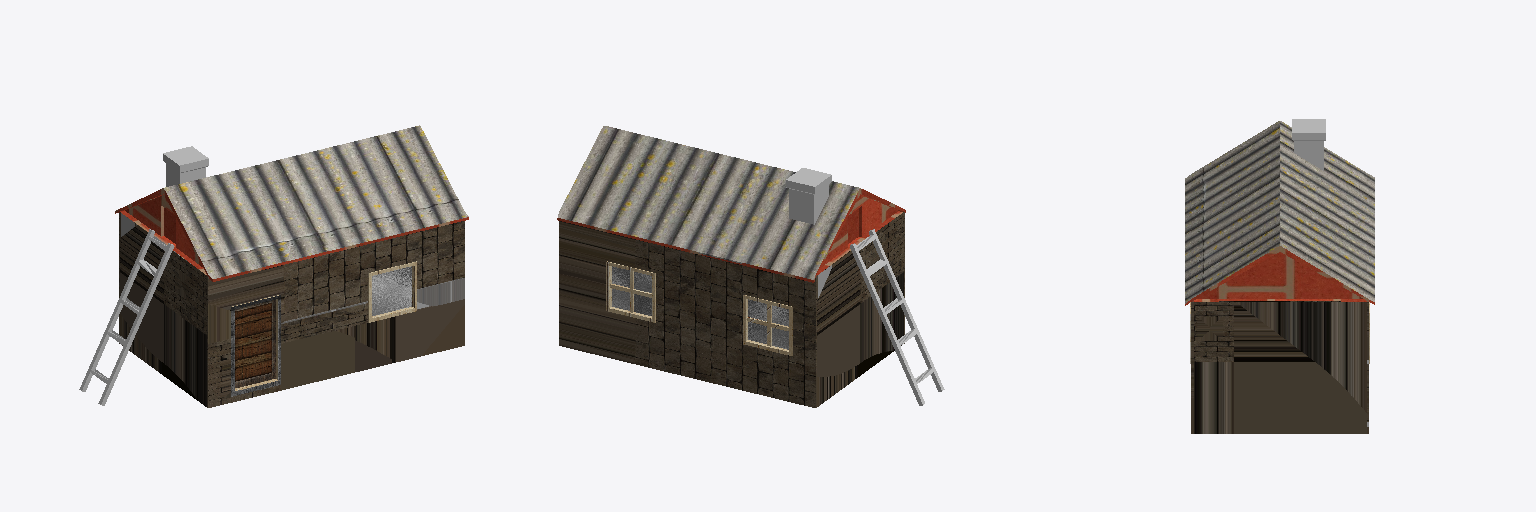
3 renders of one model, left to right at view 1: azimuth 30°, elevation 25°; view 2: azimuth 150°, elevation 25°; view 3: azimuth 270°, elevation 25°, orthographic.
Visible parts, largest first — view 1: Wall, Roof, Dor, Roof2, Ladder, Grass, Chimney, DorFrame, Window; view 2: Wall, Roof, Roof2, Ladder, Grass, Window, Chimney; view 3: Wall, Roof, Roof2, Chimney.
Boxes of the visible parts, <box> form: Wall: <box>119,212,464,407</box>; Roof: <box>164,125,468,278</box>; Dor: <box>235,300,275,387</box>; Roof2: <box>115,188,468,281</box>; Ladder: <box>79,229,173,405</box>; Grass: <box>174,251,411,315</box>; Chimney: <box>163,146,208,186</box>; DorFrame: <box>231,295,280,396</box>; Window: <box>182,257,416,322</box>; Wall: <box>559,212,904,407</box>; Roof: <box>558,126,859,279</box>; Roof2: <box>557,188,905,282</box>; Ladder: <box>850,229,944,405</box>; Grass: <box>612,266,788,349</box>; Window: <box>606,261,792,355</box>; Chimney: <box>786,168,831,224</box>; Wall: <box>1191,301,1368,433</box>; Roof: <box>1185,121,1374,303</box>; Roof2: <box>1185,246,1374,305</box>; Chimney: <box>1292,119,1368,426</box>.
Bounding box in the file's own units: 12.93 × 7.67 × 6.39.
9 materials, 7 textured.